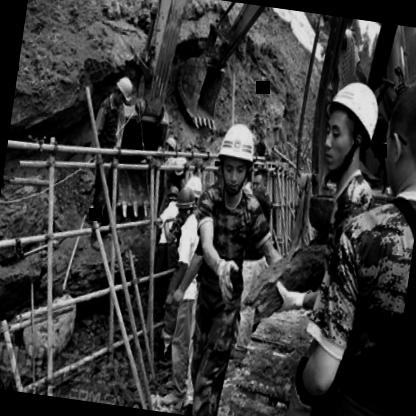head: (375, 70, 416, 209), (250, 164, 274, 198)
helmet: (312, 72, 384, 177), (210, 116, 262, 200), (170, 183, 199, 222), (108, 74, 138, 108), (166, 182, 180, 205)
